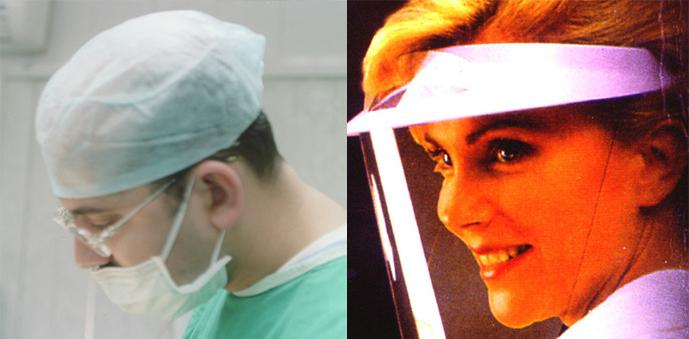mask_weared_incorrect: (49, 180, 195, 320)
without_mask: (415, 116, 583, 329)
